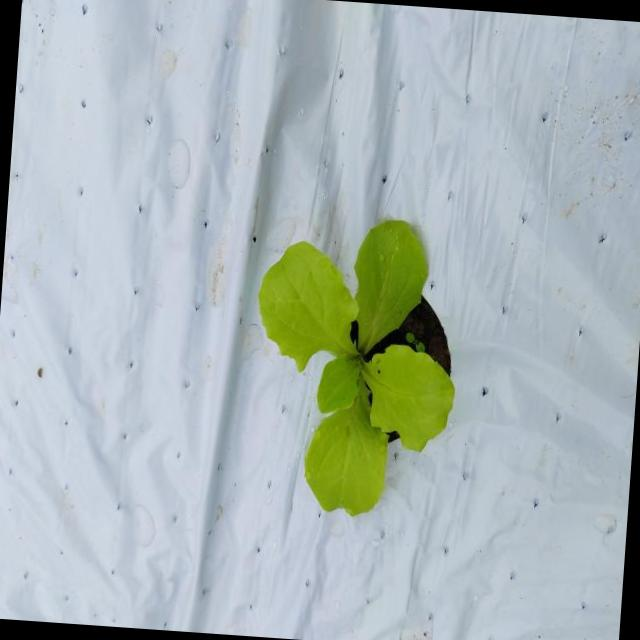Lettuce-Not-Ready-to-Harvest: (259, 221, 452, 514)
